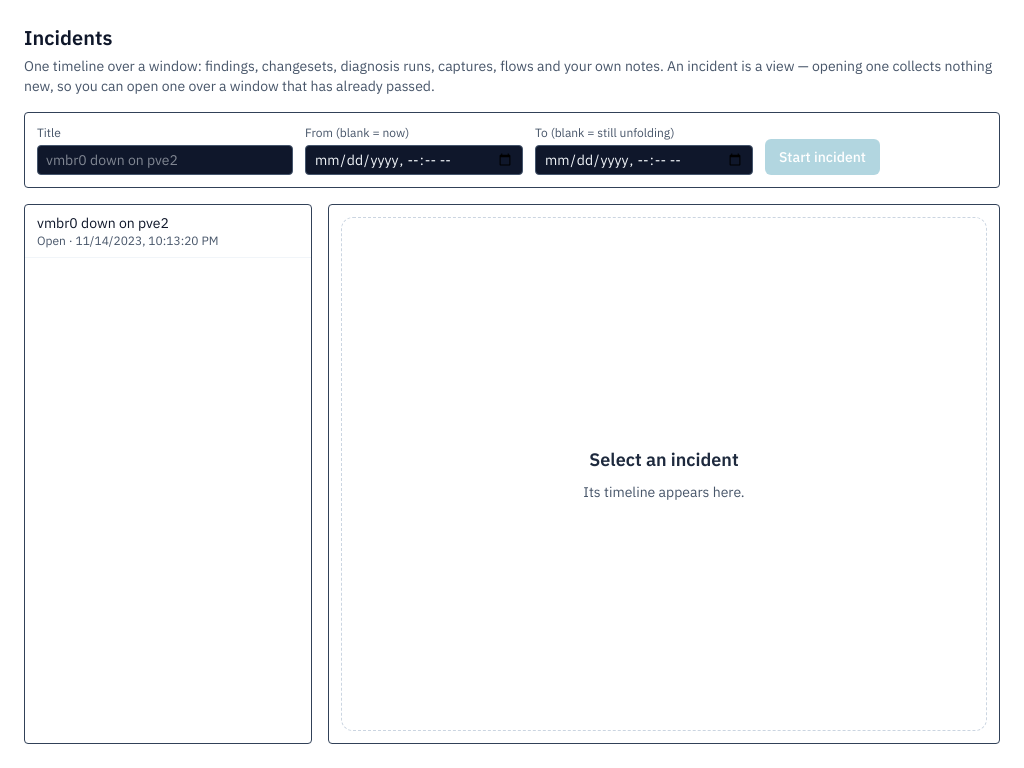
Test: IncidentsPage › says why a source contributed nothing instead of showing an unexplained gap
Click the button "vmbr0 down on pve2 Open · 11/14/2023, 10:13:20 PM". click: (168, 232)
box: [25,205,311,258]
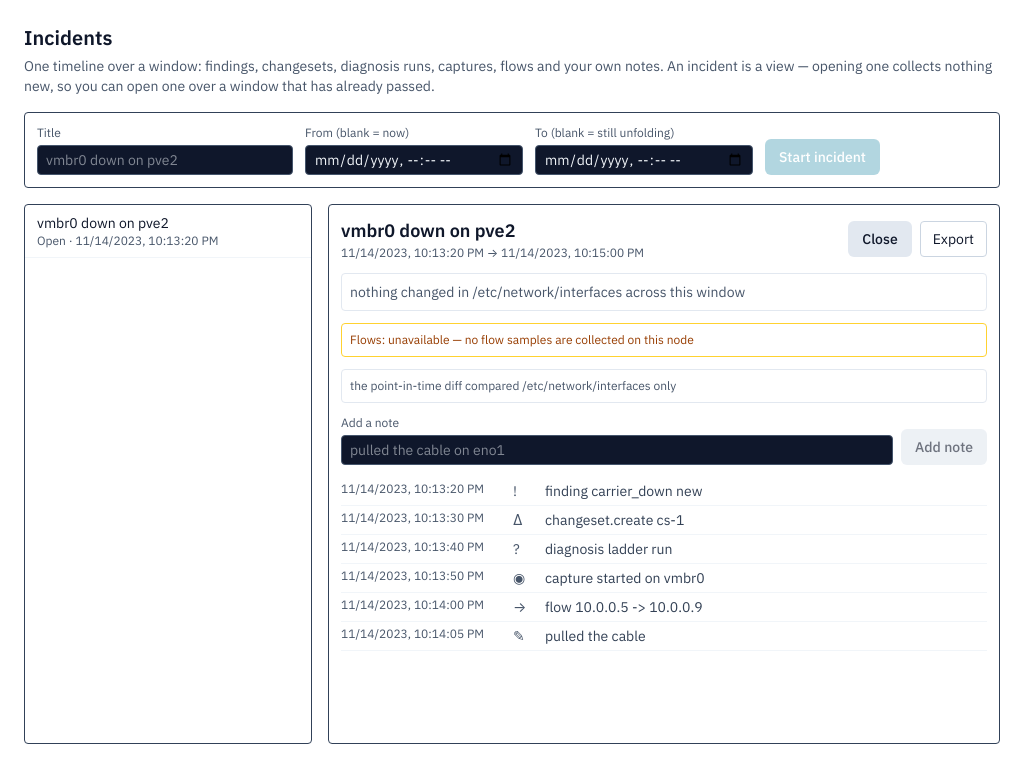
Check: the list with test id "incident-source-gaps" shows "Flows", box [350,332,382,347]
Check: the list with test id "incident-source-gaps" shows "no flow samples are collected on this node", box [465,332,694,347]
